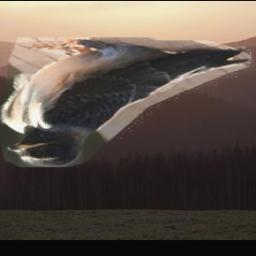Swallow: (0, 38, 254, 168)
